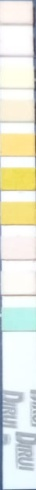color 1: (1, 2, 36, 22)
color 10: (2, 309, 36, 330)
color 2: (1, 35, 36, 54)
color 3: (1, 66, 36, 86)
color 4: (1, 99, 36, 120)
color 5: (1, 133, 36, 154)
color 6: (2, 168, 36, 189)
color 7: (1, 201, 36, 222)
color 8: (2, 237, 36, 258)
color 9: (1, 272, 36, 293)
